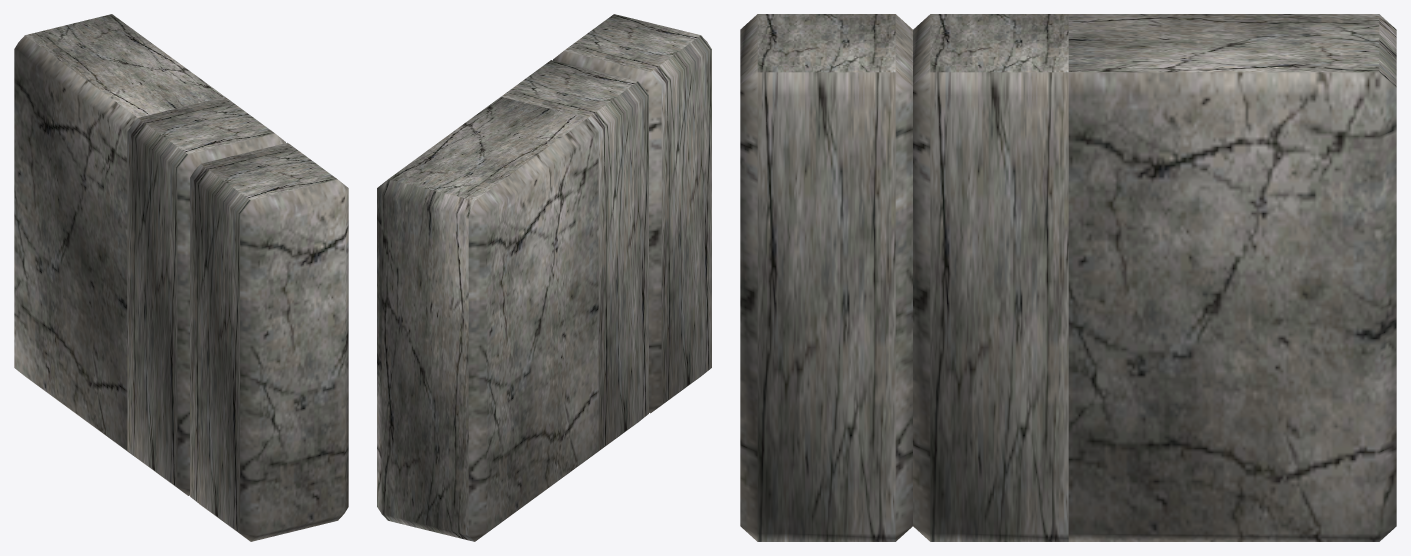
Rendered from BLOCK_CLUSTER03.fbx.
3 views of the same model, side by side, from view 1: azimuth 30°, elevation 25°; view 2: azimuth 150°, elevation 25°; view 3: azimuth 270°, elevation 25° (orthographic). The views are drawn at different scales.
Visible parts, largest first — view 1: BLOCK_CLUSTER03; view 2: BLOCK_CLUSTER03; view 3: BLOCK_CLUSTER03.
Boxes of the visible parts, x1,y1,x2,y2 form: BLOCK_CLUSTER03: [14, 14, 348, 541]; BLOCK_CLUSTER03: [377, 14, 711, 541]; BLOCK_CLUSTER03: [740, 14, 1396, 541].
Bounding box in the file's own units: 10009 × 30000 × 38008.
1 material, 1 textured.
